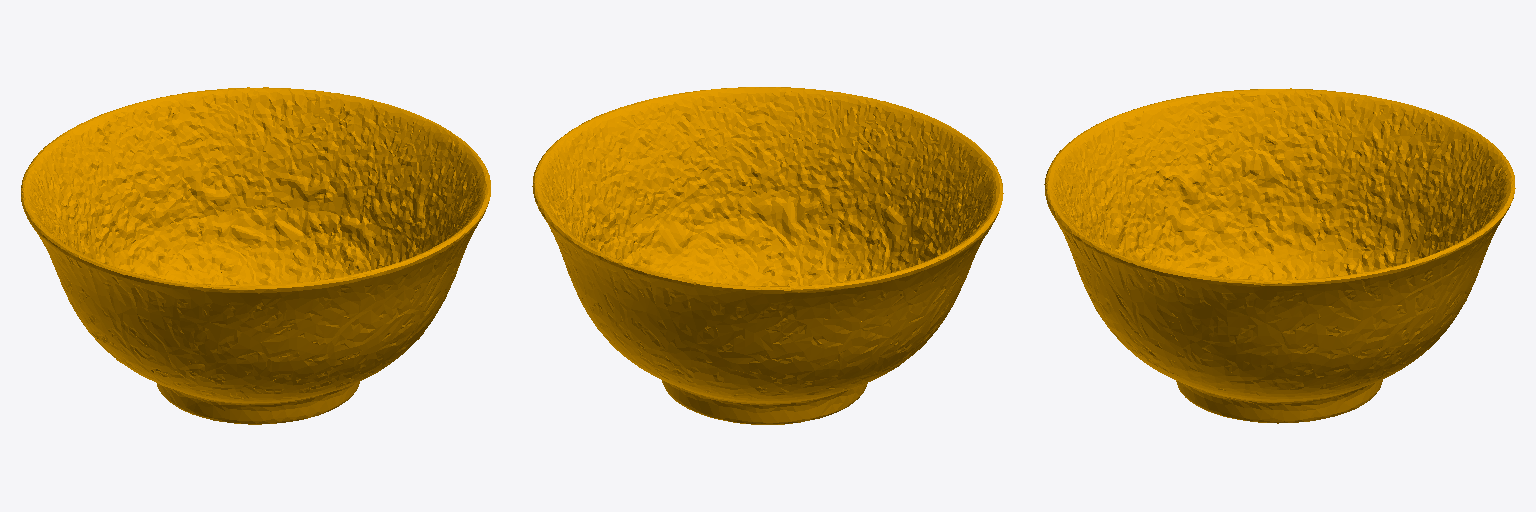
The robot description file, URDF, robot "Now_Designs_Bowl_Akita_Black":
<?xml version="1.0" ?>
<robot name="Now_Designs_Bowl_Akita_Black">
  <link name="link_0">
    <inertial>
      <origin xyz="0 0 0" rpy="0 0 0"/>
      <mass value="1.0"/>
      <inertia ixx="0.1" ixy="0.0" ixz="0.0" iyy="0.1" iyz="0.0" izz="0.1"/>
    </inertial>
    <visual name="visual">
      <origin xyz="0 0 0" rpy="0 0 0"/>
      <geometry>
        <mesh filename="meshes/model.obj"/>
      </geometry>
    </visual>
    <collision name="collision_0">
      <origin xyz="0 0 0" rpy="0 0 0"/>
      <geometry>
        <mesh filename="meshes/model.obj"/>
      </geometry>
    </collision>
  </link>
</robot>

--- What the picture shows (computed from the rendered views, not written in the file) ---
Views: 3 orthographic renders of the robot side by side, from view 1: azimuth 30°, elevation 25°; view 2: azimuth 150°, elevation 25°; view 3: azimuth 270°, elevation 25°.
Model Now_Designs_Bowl_Akita_Black with 1 links and 0 joints (none), rooted at link_0, posed every joint at zero.
Links seen in each view (by area): view 1: link_0; view 2: link_0; view 3: link_0.
Link boxes in pixels (box(x1,y1,x2,y2)): link_0: box(21, 87, 490, 424); link_0: box(532, 87, 1003, 424); link_0: box(1044, 88, 1515, 423).
Size in the robot's own frame: 0.1597 by 0.1589 by 0.0752 metres.
Meshes: 1 distinct files referenced, 1 mesh visuals loaded (1 OBJ).